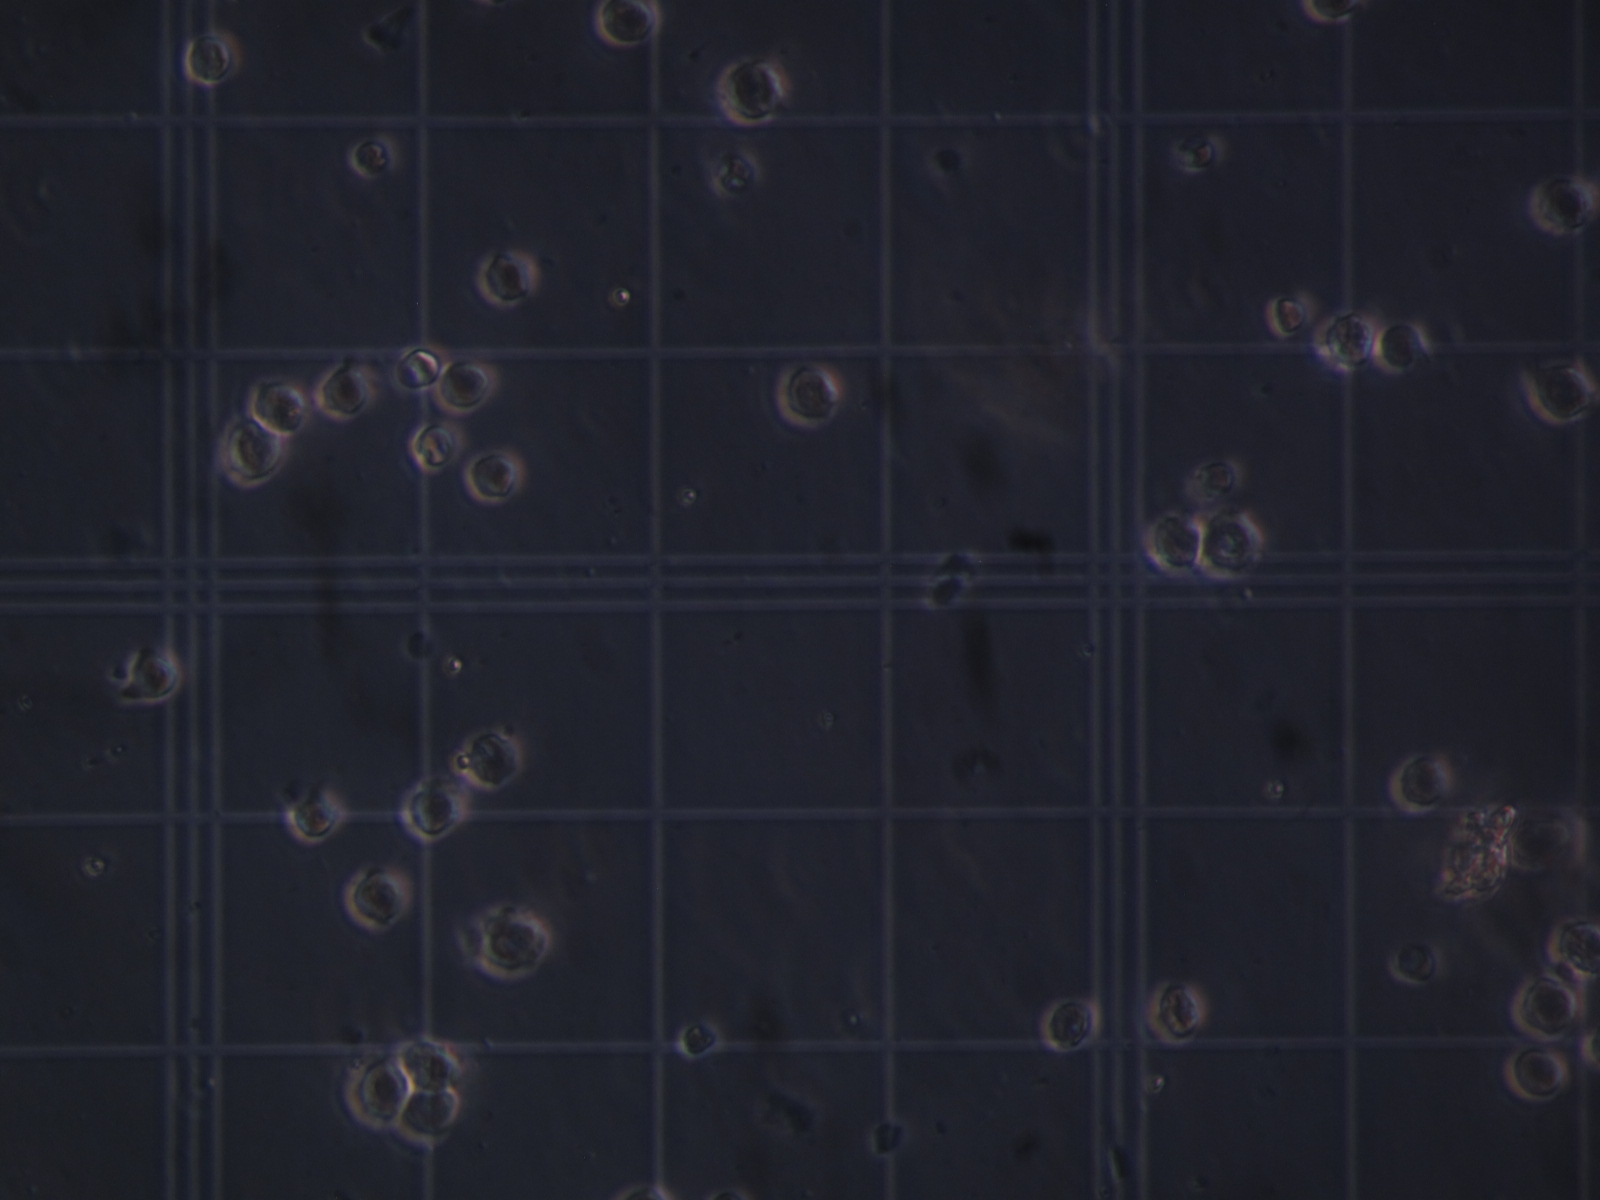hemo: (475, 903, 552, 983), (718, 54, 792, 127), (341, 1054, 413, 1127), (220, 411, 289, 488), (1522, 361, 1595, 429), (341, 868, 414, 934), (1508, 976, 1579, 1041), (1199, 511, 1264, 580), (1527, 176, 1599, 237), (399, 782, 467, 845), (777, 363, 842, 427), (461, 729, 527, 792), (431, 357, 498, 417), (1392, 753, 1454, 814), (1317, 313, 1377, 374), (397, 1037, 464, 1093), (1545, 918, 1600, 984), (476, 250, 538, 309), (316, 362, 374, 425), (1148, 983, 1204, 1047), (1146, 509, 1203, 574), (401, 1087, 460, 1147), (248, 379, 309, 437), (1041, 996, 1101, 1053), (1506, 1046, 1567, 1100), (409, 415, 466, 473), (466, 449, 523, 505), (184, 28, 239, 84), (287, 792, 346, 843), (1374, 316, 1426, 376), (1184, 456, 1245, 507), (595, 1, 663, 45), (129, 650, 183, 705), (706, 147, 763, 198), (1386, 938, 1443, 986), (393, 343, 449, 391), (348, 134, 398, 180), (1173, 134, 1225, 174), (678, 1017, 722, 1060), (1265, 294, 1308, 338), (1301, 1, 1361, 24)
